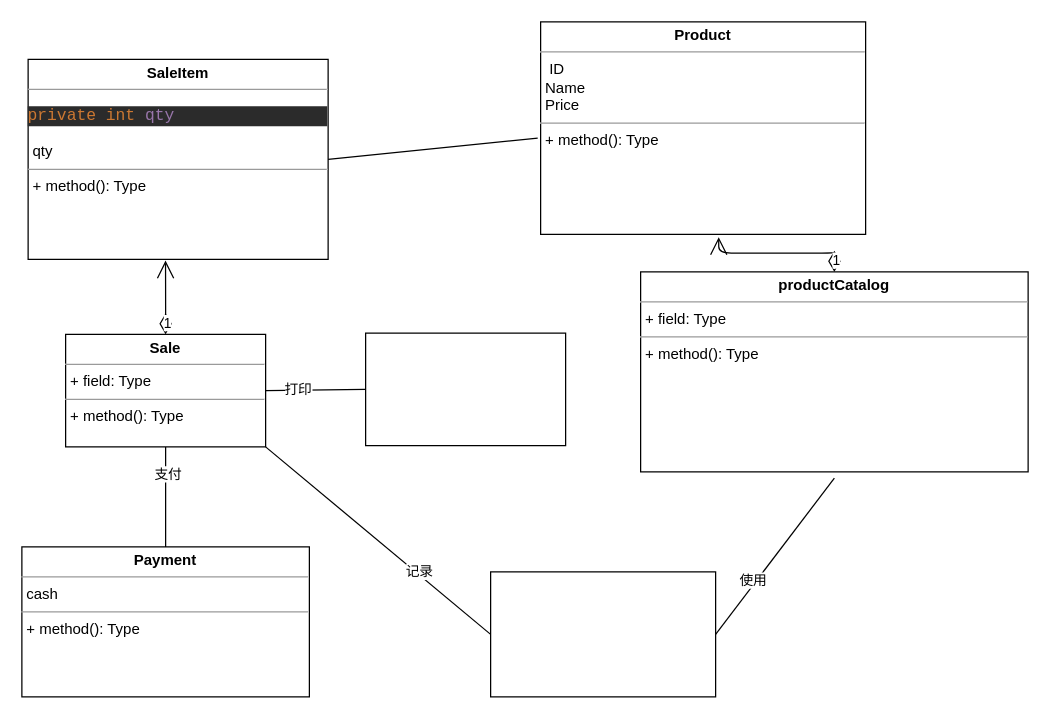
Image size: 1050x719. Some labels were removed from this diagram. Each missing label, with the centre of its shape:
"POSSystem + method(): Type" goes at [602,634].
"Receipts + method(): Type" goes at [465,389].
